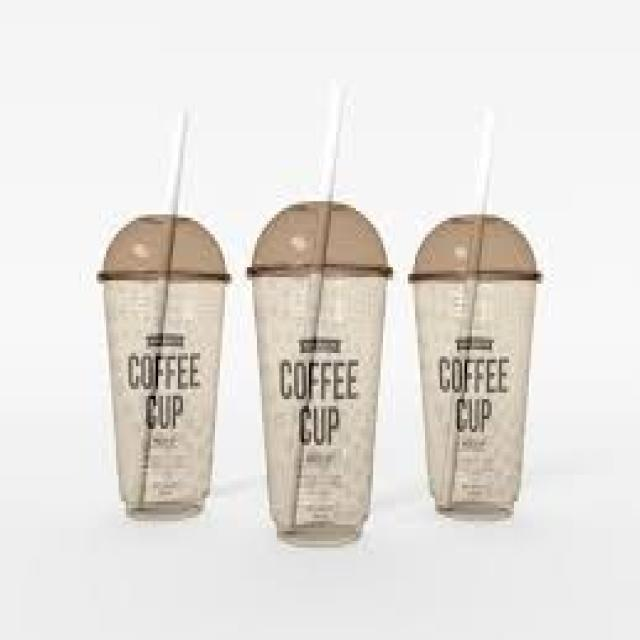bottle: (253, 277, 386, 543), (414, 280, 536, 515), (104, 280, 225, 513)
